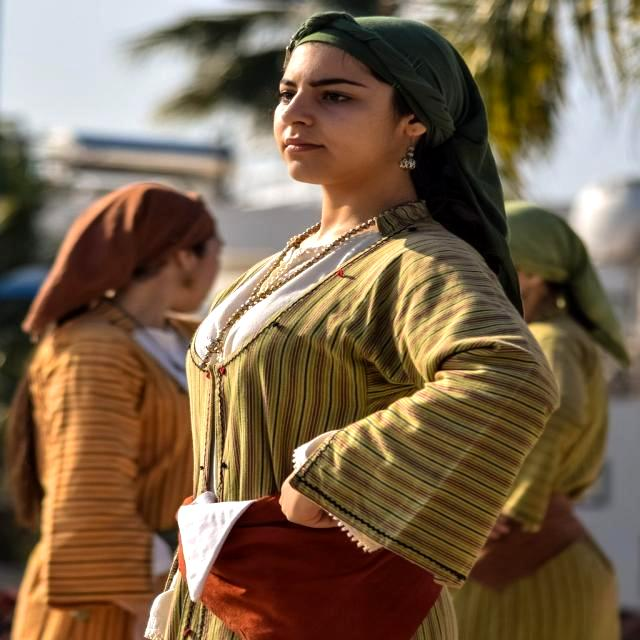no_hard_hat: (286, 12, 522, 315), (23, 182, 216, 332), (506, 201, 630, 369)
person: (141, 41, 538, 638), (8, 236, 221, 640), (472, 272, 619, 640)
